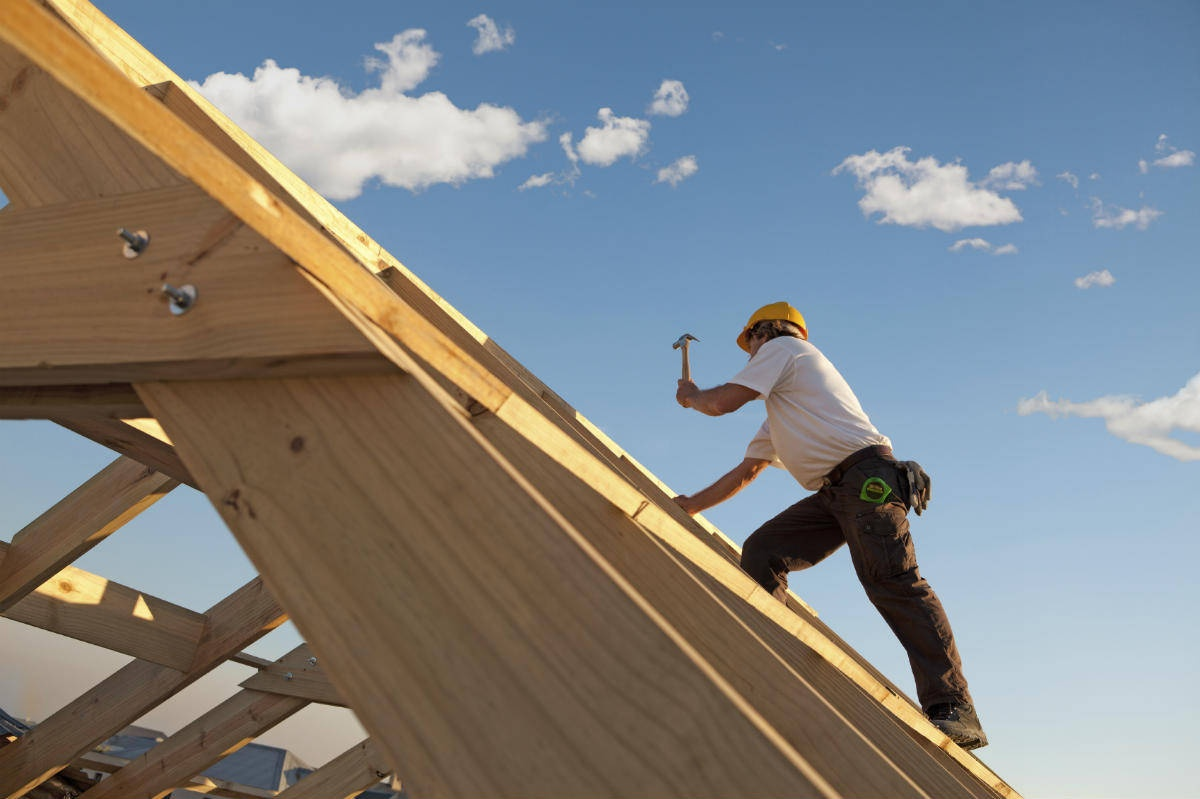yellow: (736, 302, 811, 364)
